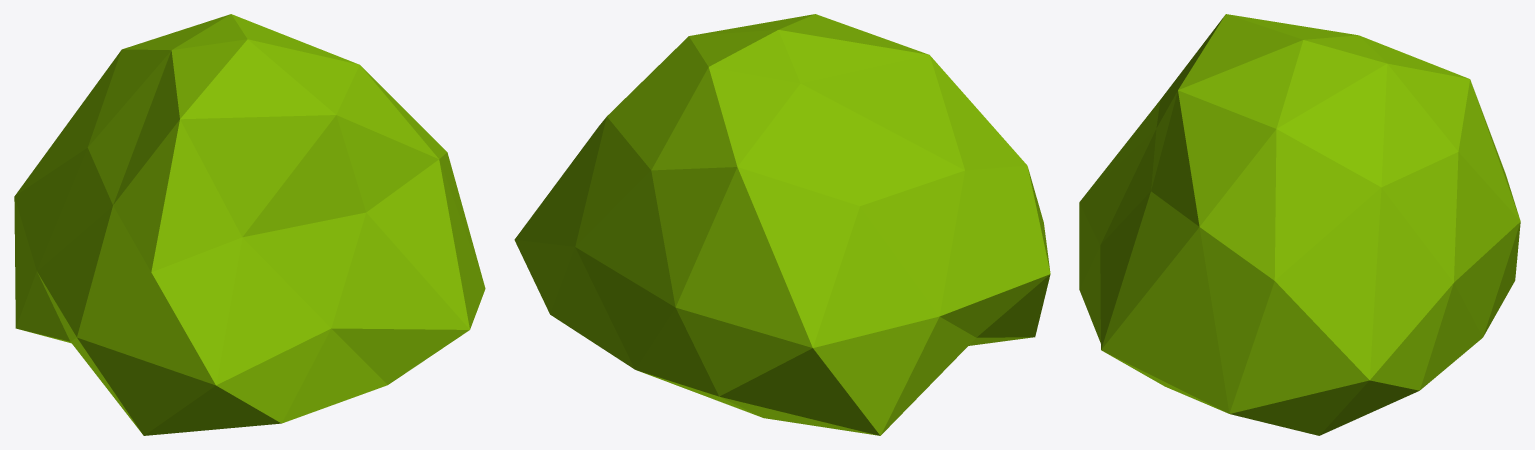
Rendered from Bush.fbx.
3 renders of one model, left to right at view 1: azimuth 30°, elevation 25°; view 2: azimuth 150°, elevation 25°; view 3: azimuth 270°, elevation 25°, orthographic. The views are drawn at different scales.
Visible parts, largest first — view 1: Bush; view 2: Bush; view 3: Bush.
Part boxes in pixels (x1,y1,x2,y2): Bush: (14, 14, 485, 435); Bush: (514, 14, 1050, 435); Bush: (1079, 14, 1520, 435).
Size of the model in its own units: 185 by 129 by 161.
